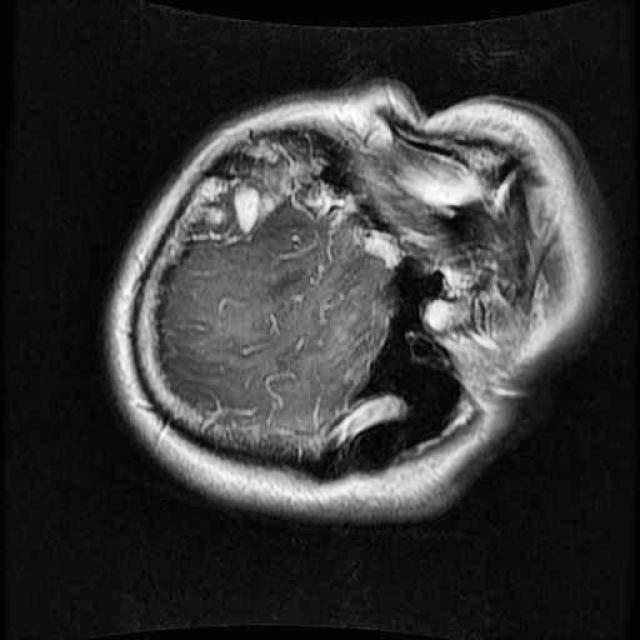Non-Tumor: (159, 114, 352, 265)
